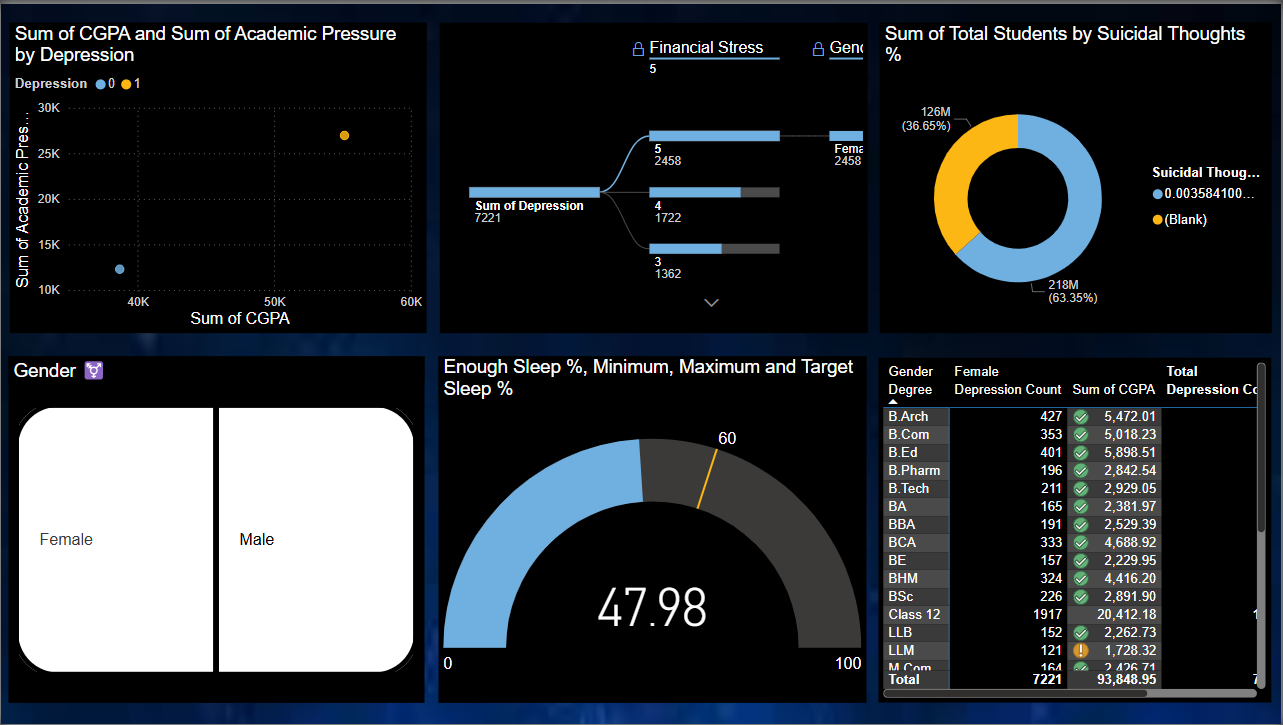

Layout of this report page (visuals, bound fields, positions):
{"tool":"powerbi","page":{"name":"Page 2","canvas":[1280,720],"ordinal":1},"visuals":[{"type":"scatterChart","fields":{"X":["Sum(Student Depression Dataset.CGPA)"],"Y":["Sum(Student Depression Dataset.Academic Pressure)"],"Series":["Student Depression Dataset.Depression"]},"box":[8.3,18.3,416.7,310],"z":0},{"type":"donutChart","fields":{"Y":["Sum(Student Depression Dataset.Total Students)"],"Category":["Student Depression Dataset.Suicidal Thoughts %"]},"box":[878.3,18.3,391.7,310],"z":1000},{"type":"advancedSlicerVisual","title":"Gender ⚧️","fields":{"Values":["Student Depression Dataset.Gender"]},"box":[8,352,416,346],"z":3000},{"type":"decompositionTreeVisual","fields":{"Analyze":["Sum(Student Depression Dataset.Depression)"],"ExplainBy":["Student Depression Dataset.Financial Stress","Student Depression Dataset.Gender"]},"box":[438.3,18.3,428.3,310],"z":4000},{"type":"gauge","fields":{"Y":["Student Depression Dataset.Enough Sleep %"],"TargetValue":["Student Depression Dataset.Target Sleep %"],"MinValue":["Student Depression Dataset.Minimum"],"MaxValue":["Student Depression Dataset.Maximum"]},"box":[438,352,428,346],"z":5000},{"type":"pivotTable","fields":{"Rows":["Student Depression Dataset.Degree"],"Values":["Student Depression Dataset.Depression Count","Sum(Student Depression Dataset.CGPA)"],"Columns":["Student Depression Dataset.Gender"]},"box":[877.5,353.8,392.5,345],"z":6000}]}

Visuals, with their boxes in screenshot pixels (x1, y1, x2, y2), scaled from the page's 1280x720 canvas onto the 1283x725 screenshot:
scatterChart - Sum(Student Depression Dataset.CGPA) x Sum(Student Depression Dataset.Academic Pressure): Rect(8, 18, 426, 331)
donutChart - Sum(Student Depression Dataset.Total Students) x Student Depression Dataset.Suicidal Thoughts %: Rect(880, 18, 1273, 331)
"Gender ⚧️" advancedSlicerVisual: Rect(8, 354, 425, 703)
decompositionTreeVisual - Sum(Student Depression Dataset.Depression) x Student Depression Dataset.Financial Stress: Rect(439, 18, 869, 331)
gauge - Student Depression Dataset.Enough Sleep % x Student Depression Dataset.Target Sleep %: Rect(439, 354, 868, 703)
pivotTable - Student Depression Dataset.Degree x Student Depression Dataset.Depression Count: Rect(880, 356, 1273, 704)
